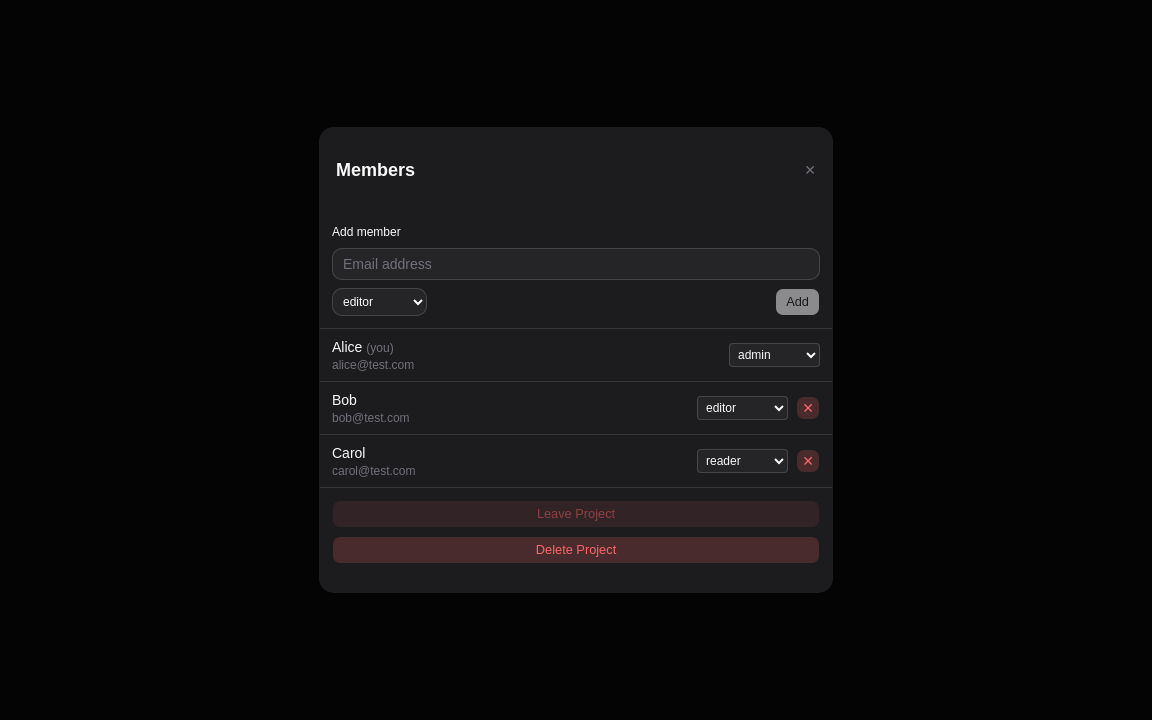
Test case: MembersPanel › role change: reverts on error
This screenshot has width=1152, height=720.
Expected: the text "Bob" is shown, top-left (332, 392), bottom-right (357, 408)
Select "commenter" in the dropdown named "Role for Bob" at (742, 408), box top-left (697, 396), bottom-right (788, 420)
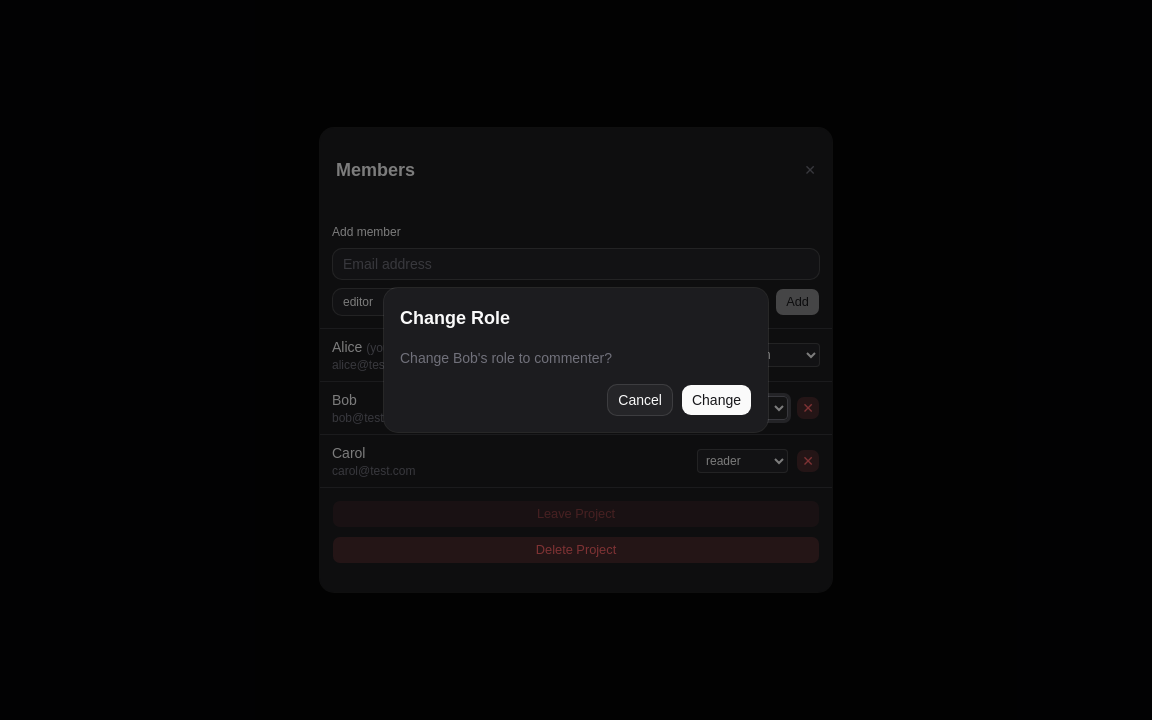
Confirm the change
Click the button "Change" at (716, 400), box top-left (681, 384), bottom-right (752, 416)
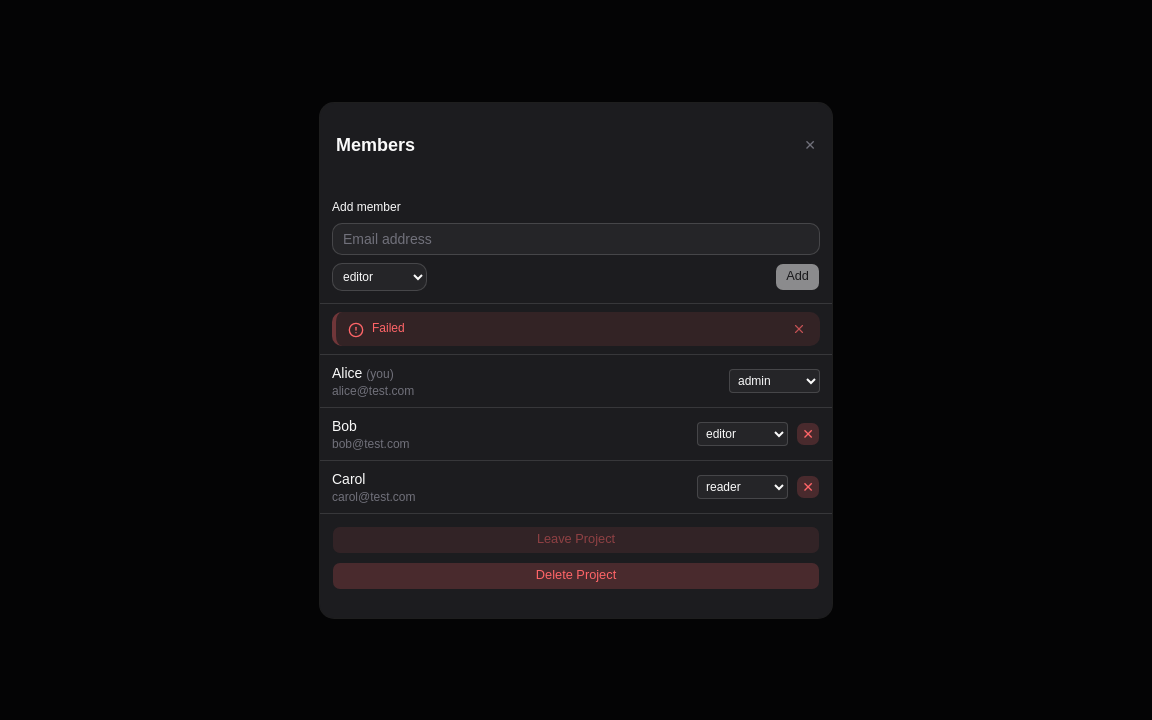
Expected: the text "Failed" is shown, top-left (372, 320), bottom-right (405, 334)
